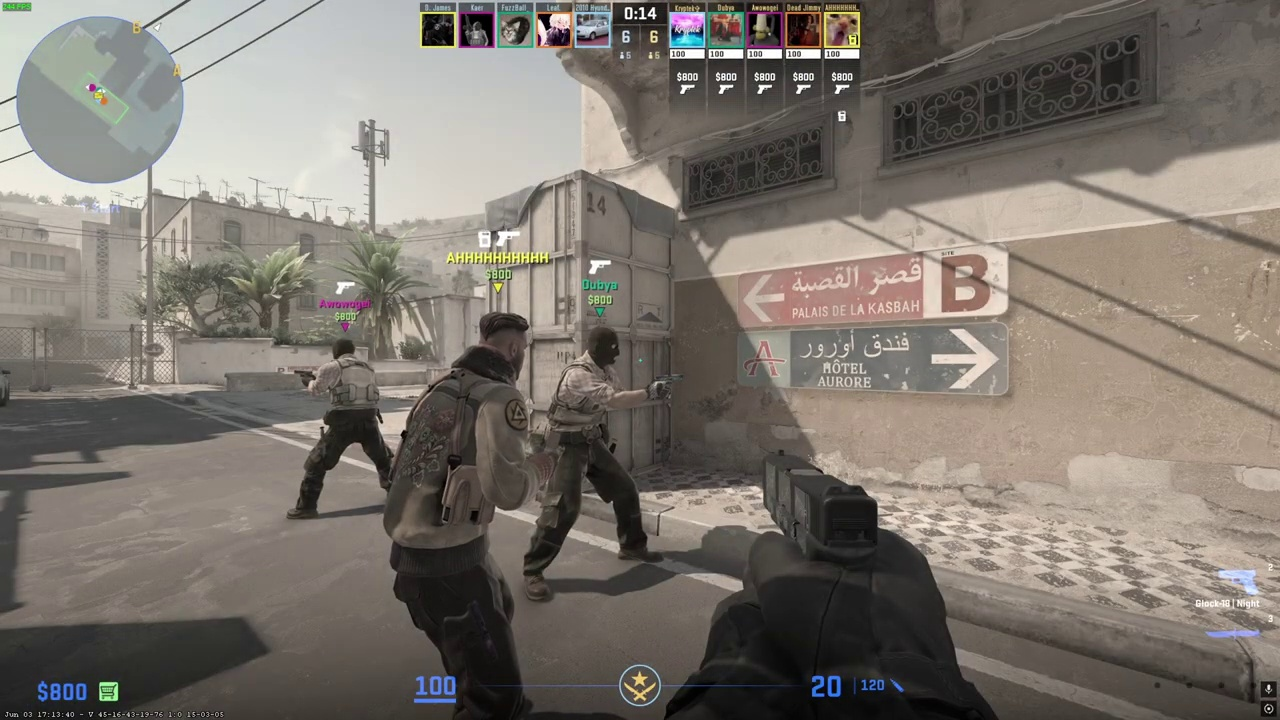Terrorist: (386, 312, 539, 720), (529, 325, 662, 602), (295, 338, 389, 519)
